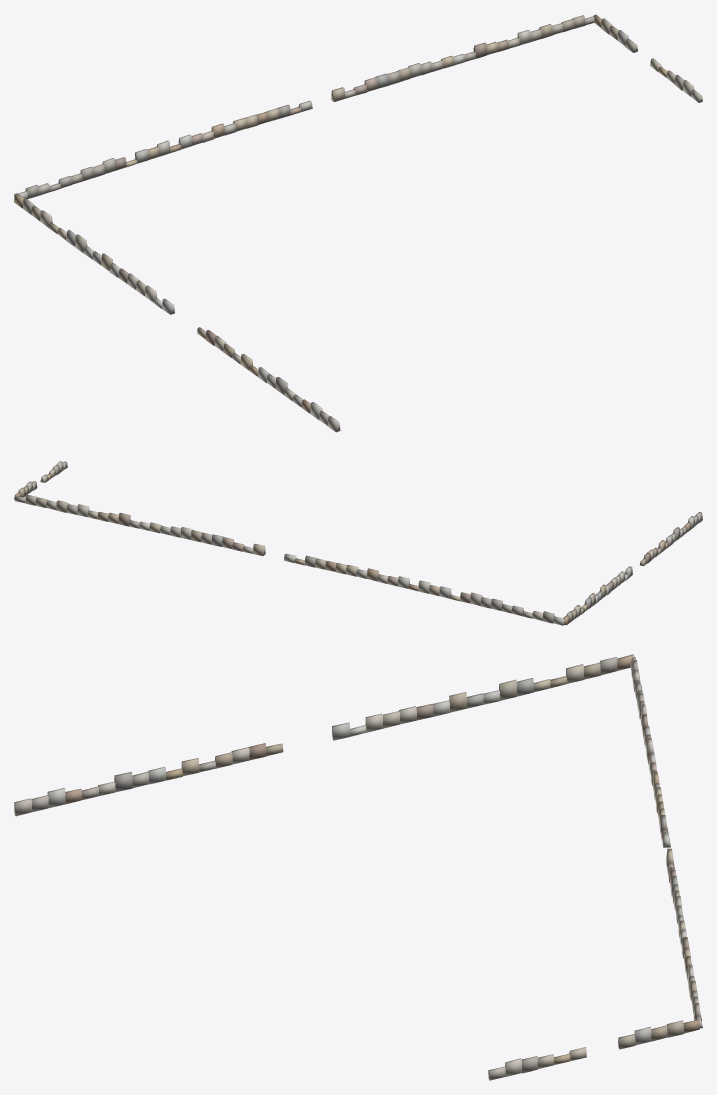
Rendered from farm_2_20_far.glb.
The picture shows the model from 3 angles, top to bottom: view 1: azimuth 30°, elevation 25°; view 2: azimuth 150°, elevation 25°; view 3: azimuth 270°, elevation 25°; orthographic projection. The views are drawn at different scales.
Parts seen in each view (by area): view 1: geometry_0; view 2: geometry_0; view 3: geometry_0.
Boxes of the visible parts, x1,y1,x2,y2 form: geometry_0: (14,14,702,432); geometry_0: (14,461,702,625); geometry_0: (14,654,702,1080).
Size of the model in its own units: 87.75 by 13.11 by 63.97.
